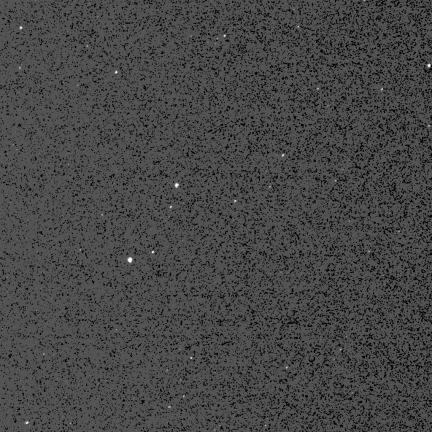blob: (128, 257, 132, 263), (175, 183, 179, 188), (428, 64, 432, 68), (115, 71, 119, 75), (20, 26, 23, 30), (152, 251, 155, 254)
